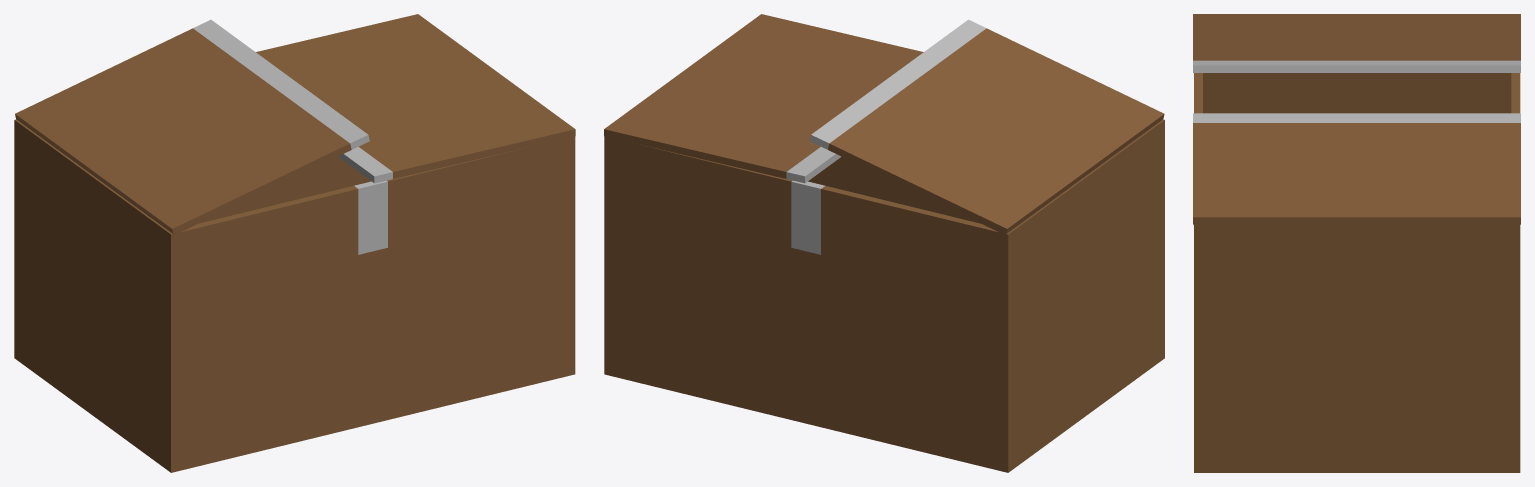
3 views of the same model, side by side, from view 1: azimuth 30°, elevation 25°; view 2: azimuth 150°, elevation 25°; view 3: azimuth 270°, elevation 25° (orthographic). The views are drawn at different scales.
Parts seen in each view (by area): view 1: Cube.001; view 2: Cube.001; view 3: Cube.001.
Part boxes in pixels (box(x1,y1,x2,y2)): Cube.001: box(14, 14, 575, 472); Cube.001: box(604, 14, 1164, 472); Cube.001: box(1193, 14, 1520, 472).
Size of the model in its own units: 139 by 95.72 by 94.
